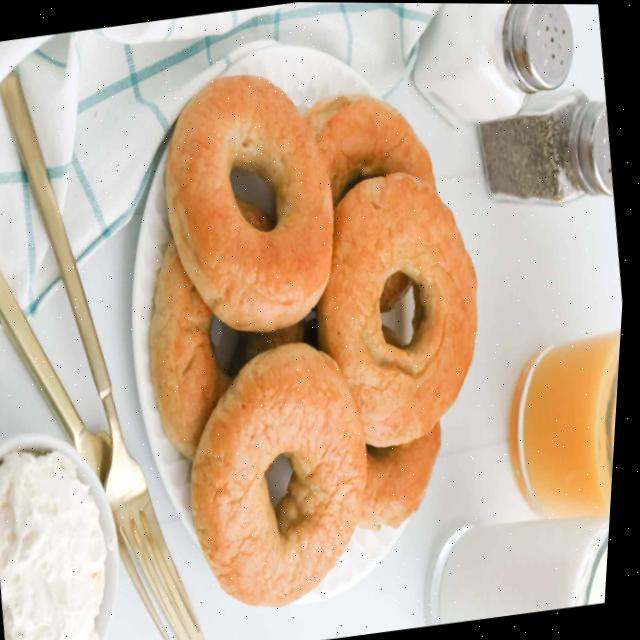Bagel: (196, 343, 372, 607), (320, 172, 481, 447), (167, 75, 336, 332)
